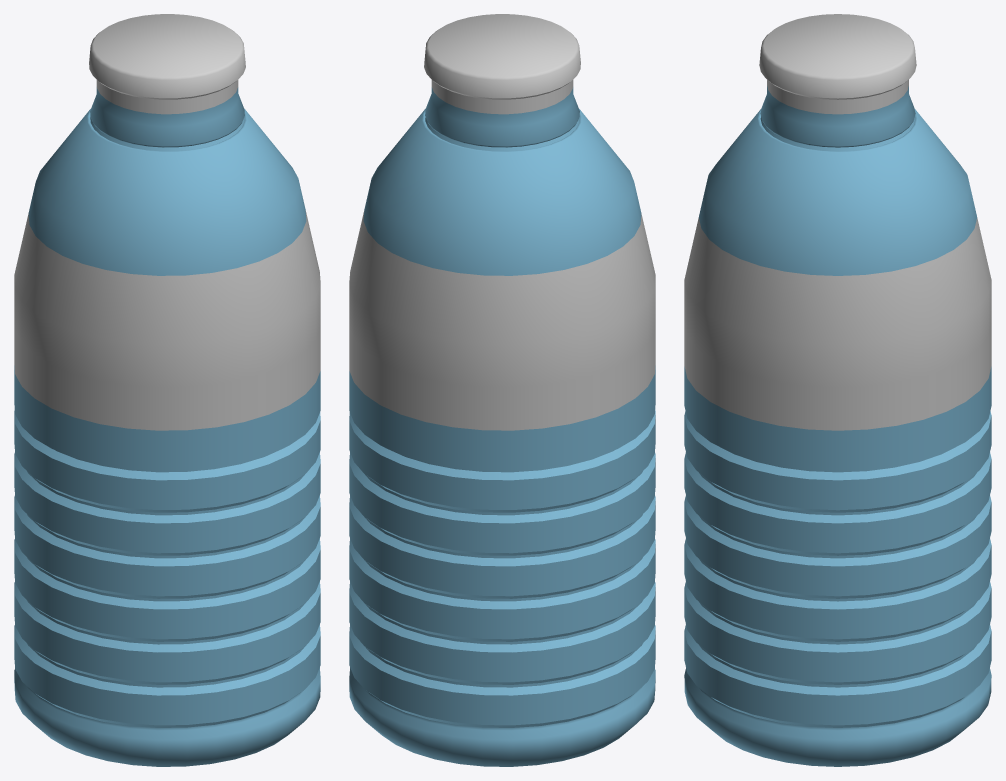
File: waterBottle.fbx
3 renders of one model, left to right at view 1: azimuth 30°, elevation 25°; view 2: azimuth 150°, elevation 25°; view 3: azimuth 270°, elevation 25°, orthographic.
Visible parts, largest first — view 1: Cylinder.006; view 2: Cylinder.006; view 3: Cylinder.006.
Part boxes in pixels (x1,y1,x2,y2): Cylinder.006: (14,14,320,766); Cylinder.006: (349,14,655,766); Cylinder.006: (684,14,991,766).
Bounding box in the file's own units: 69.02 × 165 × 69.02.
